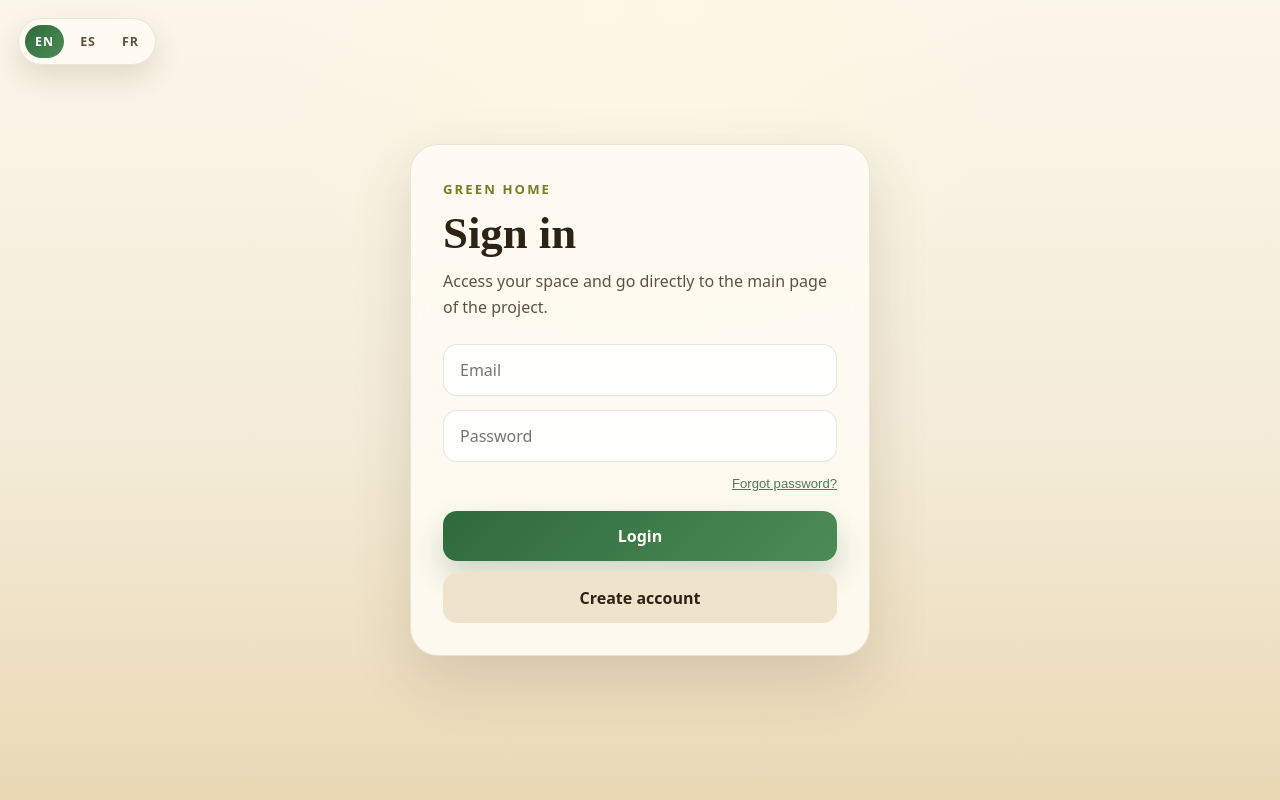
Test: App routing › navigates to Register when Create account is clicked
Click the button "Create account". click: point(640, 598)
box: x1=443 y1=573 x2=837 y2=623
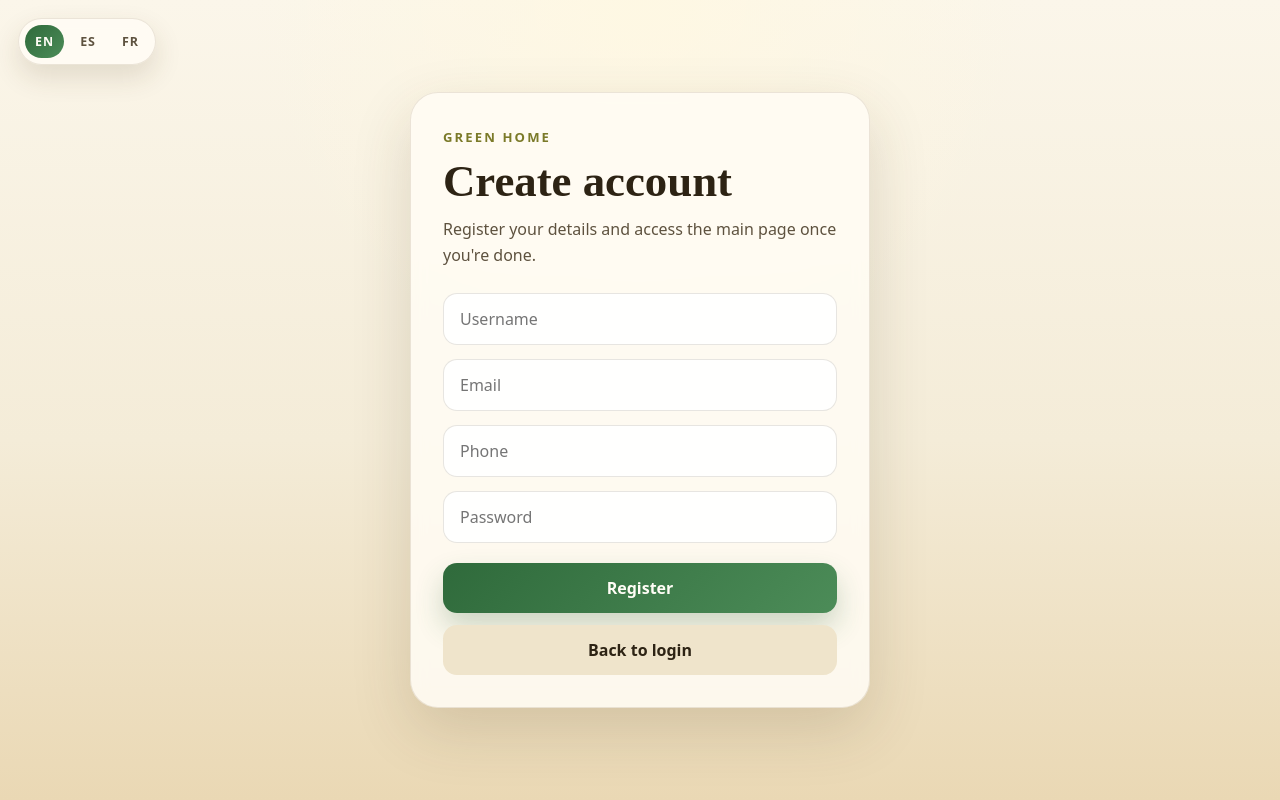
Expected: the heading "Create account" is shown, x1=443 y1=156 x2=732 y2=206
Expected: the field with placeholder "Username" is shown, x1=443 y1=293 x2=837 y2=345
